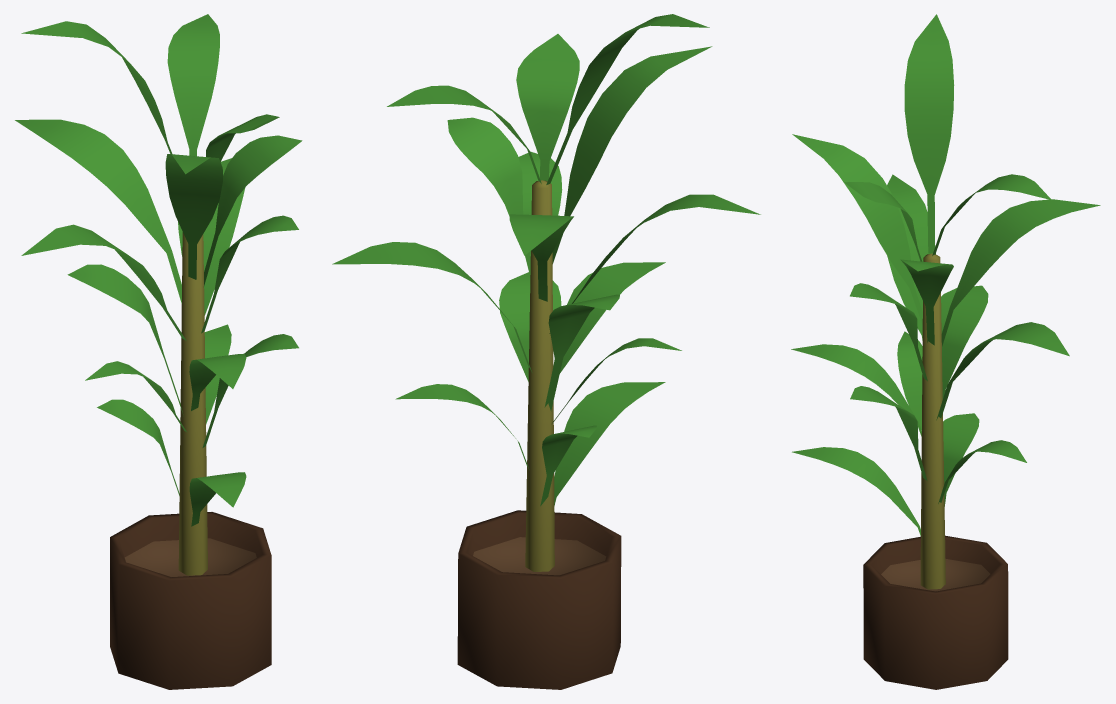
Rendered from Pot.fbx.
The picture shows the model from 3 angles, left to right: view 1: azimuth 30°, elevation 25°; view 2: azimuth 150°, elevation 25°; view 3: azimuth 270°, elevation 25°; orthographic projection. The views are drawn at different scales.
Visible parts, largest first — view 1: Pot_01; view 2: Pot_01; view 3: Pot_01.
Part boxes in pixels (x1,y1,x2,y2): Pot_01: [15, 14, 302, 689]; Pot_01: [332, 14, 760, 689]; Pot_01: [791, 14, 1100, 689].
Size of the model in its own units: 71.88 by 141 by 69.22.
